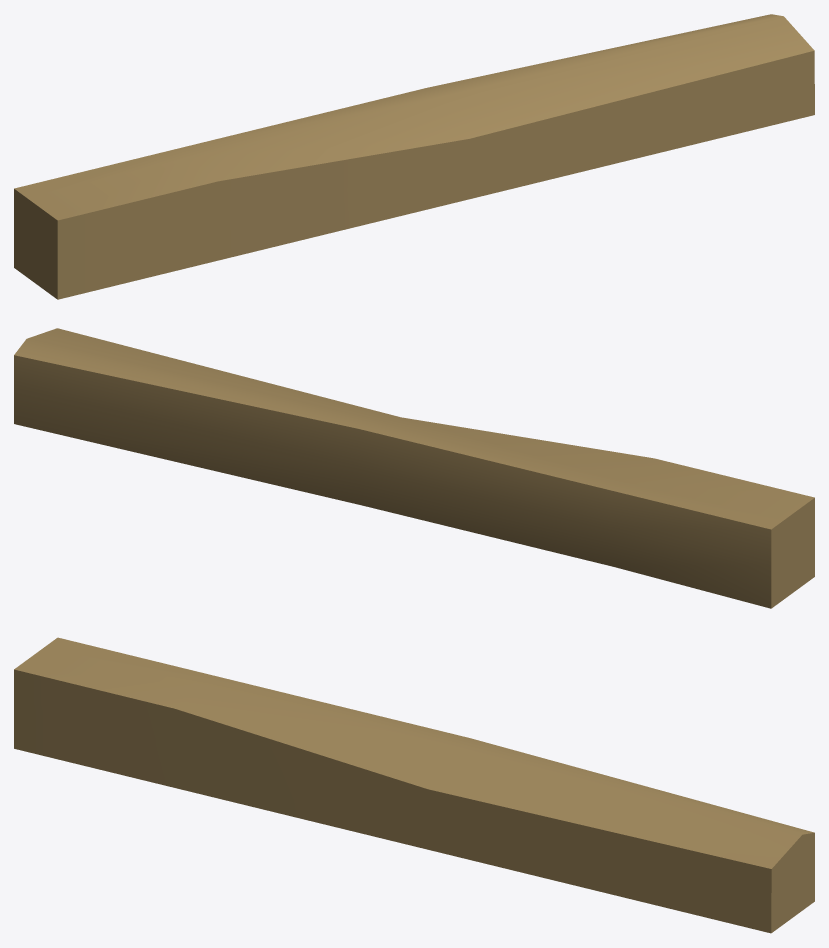
Rendered from Beam_01.fbx.
3 renders of one model, top to bottom at view 1: azimuth 30°, elevation 25°; view 2: azimuth 150°, elevation 25°; view 3: azimuth 330°, elevation 25°, orthographic.
Visible parts, largest first — view 1: Beam_01; view 2: Beam_01; view 3: Beam_01.
Part boxes in pixels (left/top/right/bottom): Beam_01: left=14, top=14, right=814, bottom=299; Beam_01: left=14, top=328, right=814, bottom=608; Beam_01: left=14, top=637, right=814, bottom=933.
Bounding box in the file's own units: 166 × 16.62 × 17.65.
